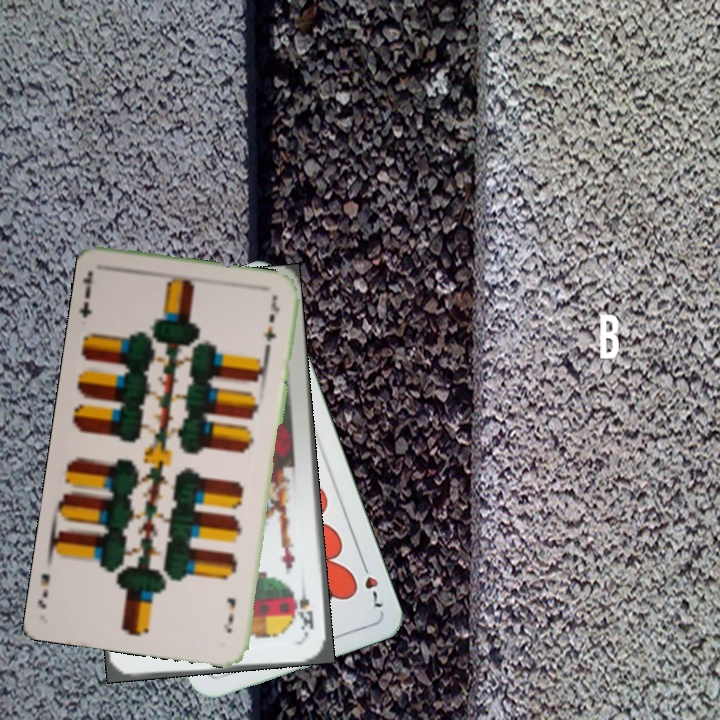E7: (76, 268, 95, 320), (220, 593, 239, 636)
H7: (357, 556, 385, 611)
SK: (294, 579, 316, 639)
